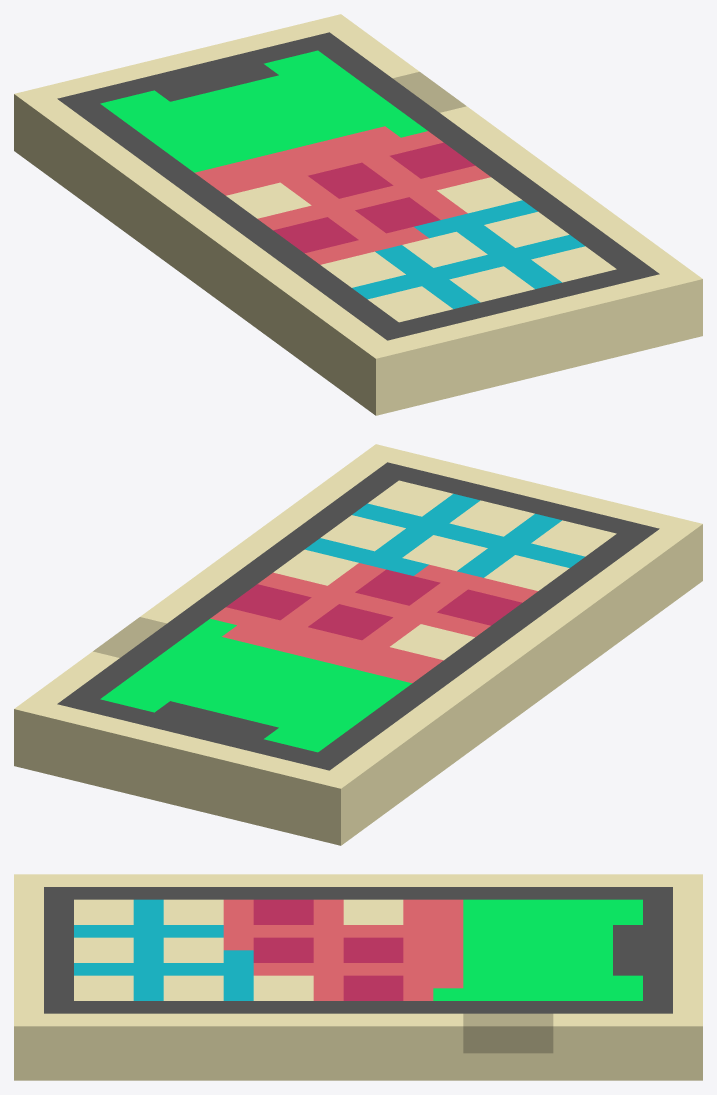
File: Voxel Universe Objects-43.obj
3 views of the same model, one above another, from view 1: azimuth 30°, elevation 25°; view 2: azimuth 150°, elevation 25°; view 3: azimuth 270°, elevation 25° (orthographic). The views are drawn at different scales.
Bounding box in the file's own units: 1.2 × 0.2 × 2.3.
1 material, 1 textured.
